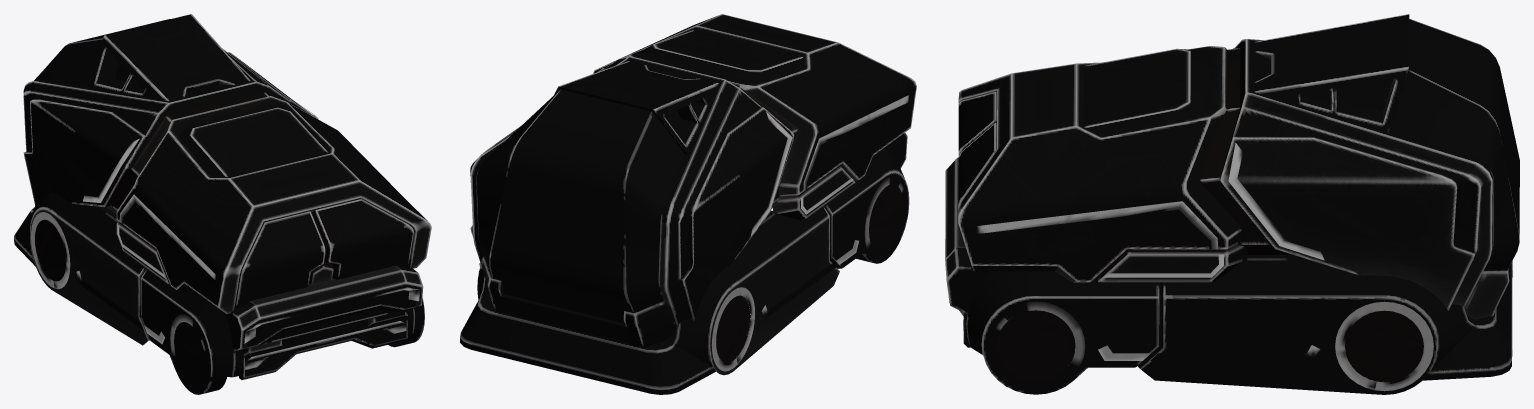
File: propDeliveryTruck.glb
3 views of the same model, side by side, from view 1: azimuth 30°, elevation 25°; view 2: azimuth 150°, elevation 25°; view 3: azimuth 270°, elevation 25° (orthographic). The views are drawn at different scales.
Visible parts, largest first — view 1: propDeliveryTruck; view 2: propDeliveryTruck; view 3: propDeliveryTruck.
Boxes of the visible parts, x1,y1,x2,y2 form: propDeliveryTruck: (14,14,431,394); propDeliveryTruck: (460,14,916,394); propDeliveryTruck: (945,14,1519,394).
Bounding box in the file's own units: 2.86 × 2.95 × 5.32.
Materials: 1 (1 with a texture image).
